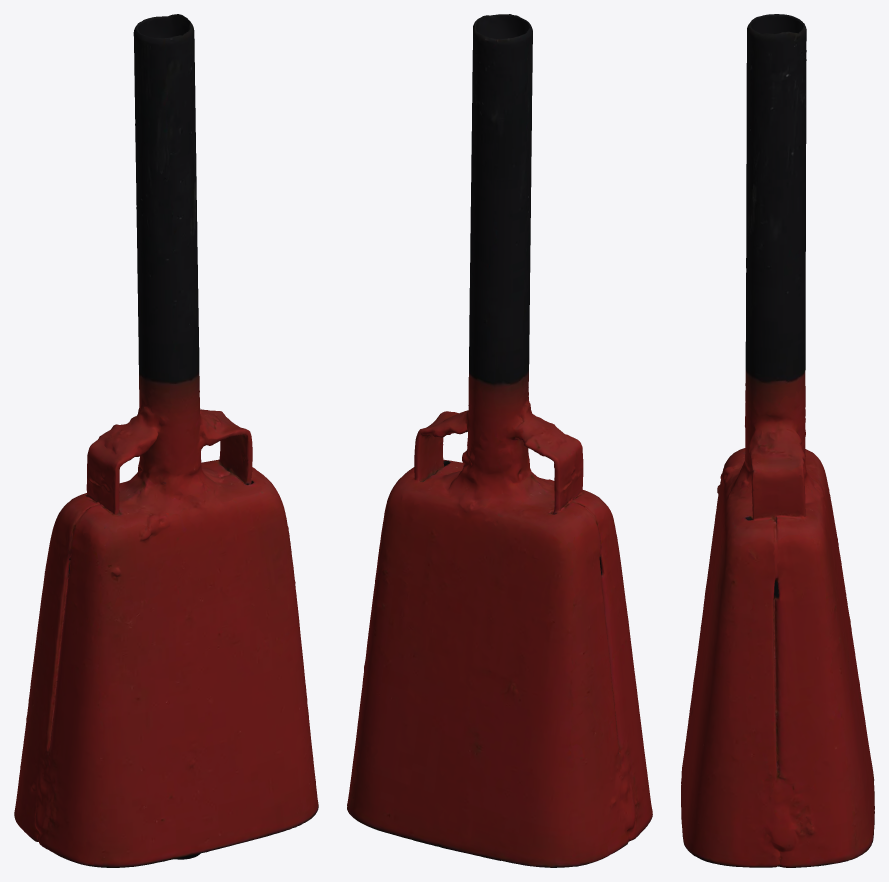
File: si-cowbell-nmah.glb
The picture shows the model from 3 angles, left to right: view 1: azimuth 30°, elevation 25°; view 2: azimuth 150°, elevation 25°; view 3: azimuth 270°, elevation 25°; orthographic projection.
Size of the model in its own units: 0.0897 by 0.2654 by 0.0584.
Materials: 1 (1 with a texture image).
